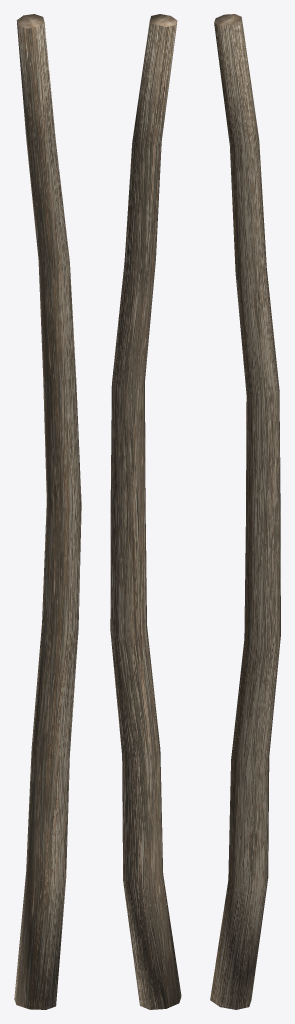
File: SM_Item_stick.gltf
The picture shows the model from 3 angles, left to right: view 1: azimuth 30°, elevation 25°; view 2: azimuth 150°, elevation 25°; view 3: azimuth 330°, elevation 25°; orthographic projection.
Parts seen in each view (by area): view 1: SM_Item_stick; view 2: SM_Item_stick; view 3: SM_Item_stick.
Part boxes in pixels (x1,y1,x2,y2): SM_Item_stick: [14, 14, 81, 1009]; SM_Item_stick: [110, 14, 181, 1009]; SM_Item_stick: [210, 14, 280, 1009].
Size of the model in its own units: 0.0624 by 0.9035 by 0.0407.
1 material, 1 textured.
